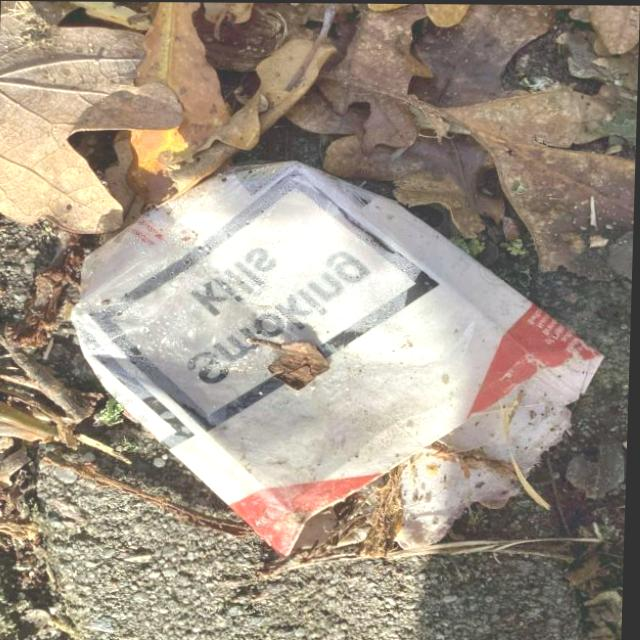Paper: (56, 144, 613, 560)
